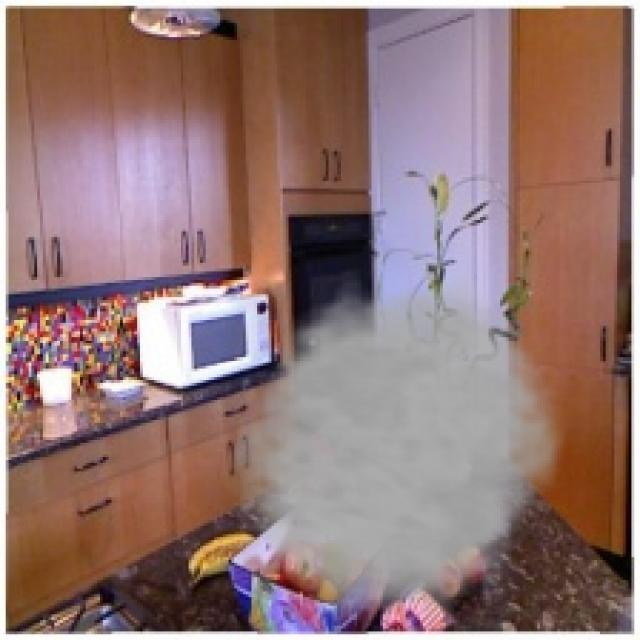smoke: (215, 266, 574, 623)
